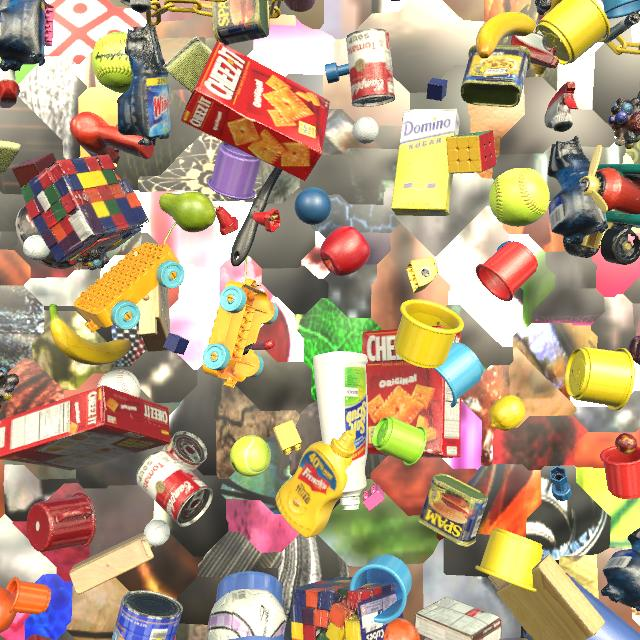ycb_002_master_chef_can: (111, 590, 183, 640), (637, 91, 640, 105)
ycb_003_cracker_box: (181, 41, 330, 181), (0, 385, 171, 470), (362, 326, 461, 458)
ycb_004_sugar_box: (391, 109, 460, 216)
ycb_005_tomato_soup_can: (135, 450, 213, 527), (346, 28, 395, 107), (162, 431, 207, 473), (120, 0, 159, 6)
ycb_006_mustard_bottle: (275, 430, 356, 538), (532, 0, 562, 75)
ycb_008_pudding_box: (414, 597, 502, 640)
ycb_010_potted_meat_can: (417, 473, 488, 547), (461, 45, 531, 108), (212, 0, 270, 46)
ycb_011_banana: (49, 304, 132, 365), (476, 12, 536, 58)
ycb_013_apple: (320, 226, 370, 276)
ycb_014_lemon: (489, 395, 525, 431)
ycb_016_pear: (159, 191, 216, 232)
ycb_017_orange: (383, 618, 420, 640), (0, 587, 17, 633)
ycb_018_plum: (628, 335, 640, 365)
